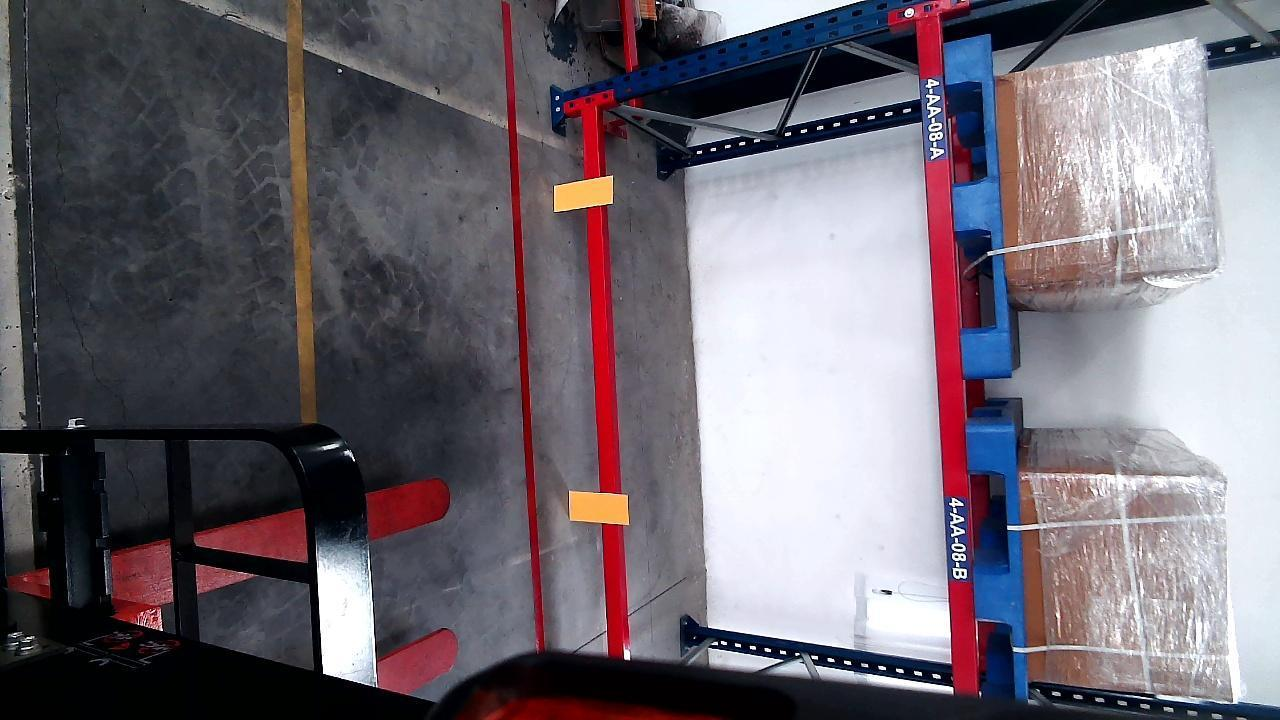h_rack: (921, 19, 974, 683), (582, 106, 626, 652)
orange_strip: (552, 175, 613, 211), (569, 491, 629, 524)
red_line: (499, 2, 548, 652)
small_pallet: (948, 33, 1014, 377), (970, 428, 1026, 688)
yellow_line: (288, 0, 318, 423)
